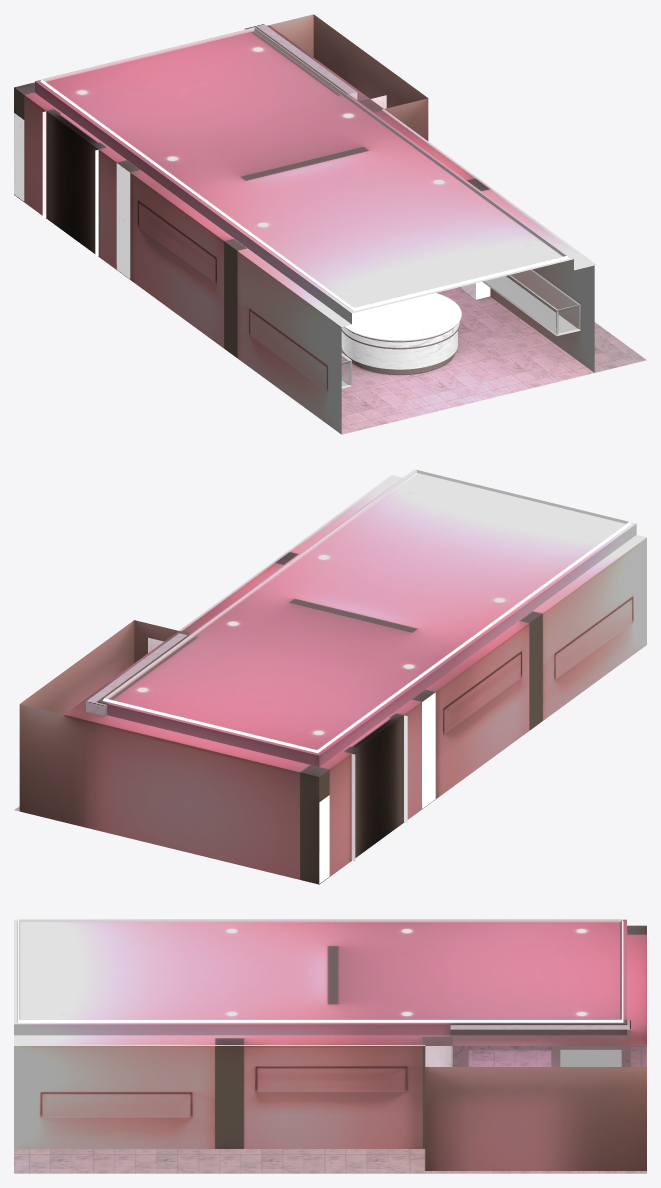
Rendered from Store-Baked.glb.
3 renders of one model, top to bottom at view 1: azimuth 30°, elevation 25°; view 2: azimuth 150°, elevation 25°; view 3: azimuth 270°, elevation 25°, orthographic. The views are drawn at different scales.
Visible parts, largest first — view 1: Roof, Wall-1, Floor, Wall-2, Table, Shelf_right_1.001, Pillars.002, Wall-3, Shelf, Wall-4, Pillars.003; view 2: Roof, Wall-1, Wall-3, Wall-2, Pillars.002, Wall-4, Pillars.003; view 3: Roof, Wall-2, Floor, Wall-4, Mirror_right, Pillars.004.
Boxes of the visible parts, x1,y1,x2,y2 form: Roof: [14, 25, 596, 326]; Wall-1: [14, 87, 341, 434]; Floor: [341, 287, 646, 434]; Wall-2: [313, 14, 594, 372]; Table: [341, 293, 461, 374]; Shelf_right_1.001: [485, 270, 578, 333]; Pillars.002: [116, 163, 130, 279]; Wall-3: [269, 14, 313, 56]; Shelf: [341, 269, 580, 388]; Wall-4: [244, 24, 357, 99]; Pillars.003: [14, 113, 24, 201]; Roof: [64, 469, 646, 776]; Wall-1: [319, 537, 646, 884]; Wall-3: [19, 704, 319, 884]; Wall-2: [20, 620, 177, 714]; Pillars.002: [422, 692, 435, 808]; Wall-4: [86, 633, 187, 716]; Pillars.003: [319, 795, 329, 883]; Roof: [14, 919, 646, 1045]; Wall-2: [14, 1046, 646, 1170]; Floor: [14, 1046, 646, 1173]; Wall-4: [450, 1020, 630, 1066]; Mirror_right: [560, 1050, 621, 1066]; Pillars.004: [425, 1046, 452, 1066].
Size of the model in its own units: 14.58 by 5.47 by 26.76.
Materials: 16 (7 with a texture image).
